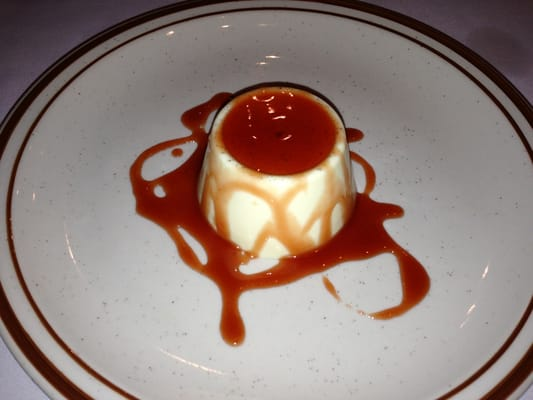sushi: (0, 0, 527, 398)
